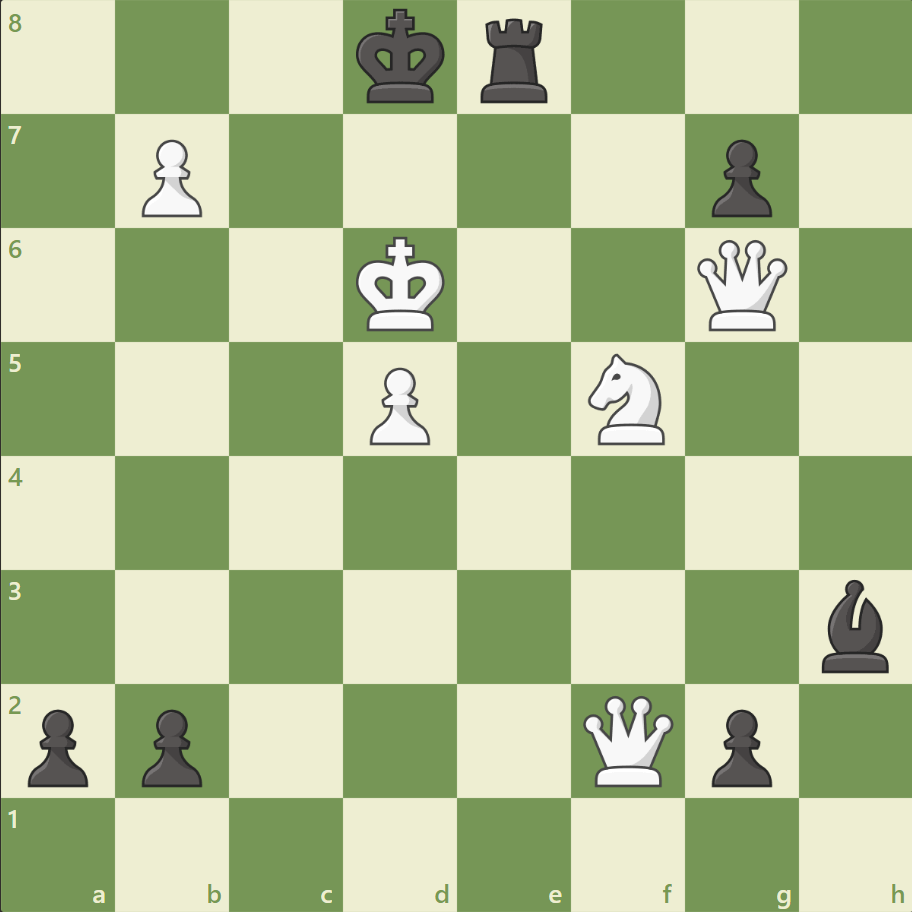K: (351, 231, 451, 339)
N: (579, 348, 676, 450)
P: (133, 132, 208, 223), (361, 359, 435, 450)
Q: (691, 236, 790, 335), (578, 690, 677, 789)
b: (812, 574, 896, 676)
k: (351, 4, 451, 112)
p: (701, 132, 776, 223), (20, 700, 95, 791), (133, 700, 208, 791), (701, 700, 776, 791)
r: (473, 12, 556, 109)
